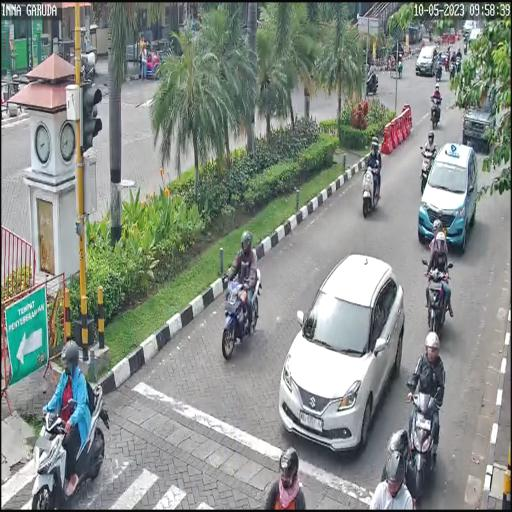mobil: (277, 251, 406, 460), (416, 140, 479, 253)
motor: (22, 374, 110, 504), (400, 372, 448, 498), (217, 260, 263, 364), (422, 256, 454, 336), (358, 163, 382, 217), (418, 141, 438, 194), (429, 92, 442, 130)
